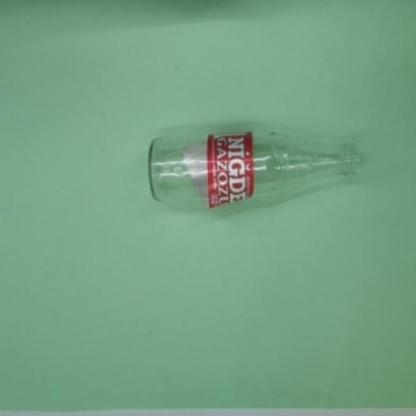Can: (148, 131, 360, 203)
